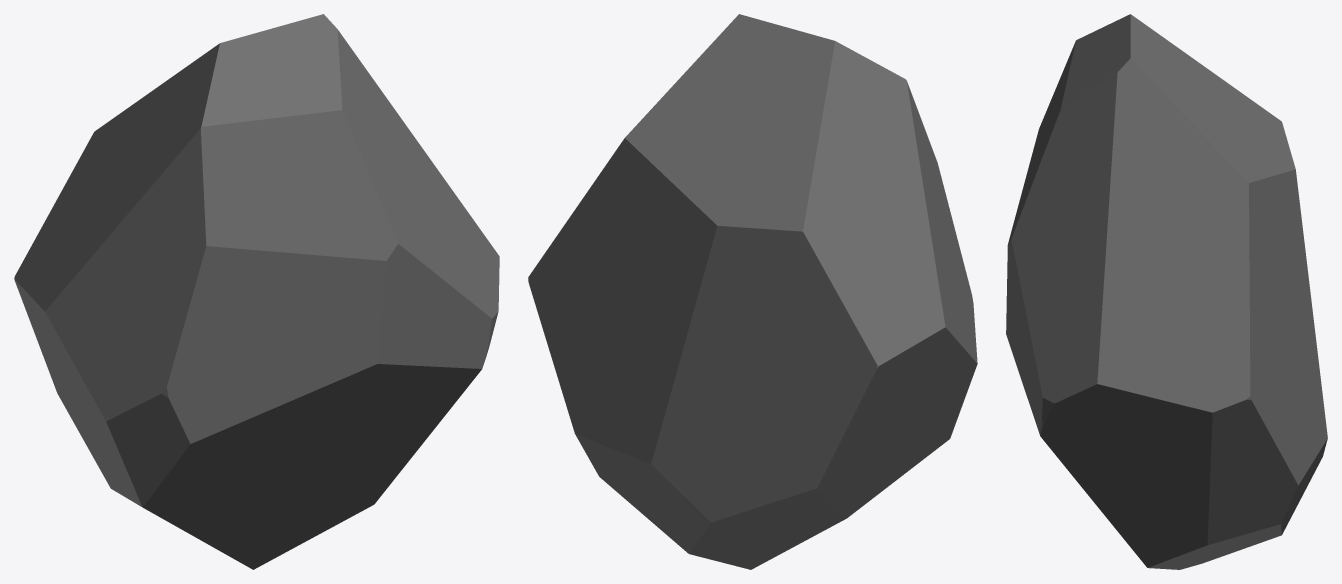
File: Rock2.fbx
3 renders of one model, left to right at view 1: azimuth 30°, elevation 25°; view 2: azimuth 150°, elevation 25°; view 3: azimuth 270°, elevation 25°, orthographic. The views are drawn at different scales.
Parts seen in each view (by area): view 1: Big Rock 2; view 2: Big Rock 2; view 3: Big Rock 2.
Boxes of the visible parts, x1,y1,x2,y2 form: Big Rock 2: (14, 14, 499, 569); Big Rock 2: (528, 14, 977, 569); Big Rock 2: (1006, 14, 1327, 569).
Size of the model in its own units: 187 by 268 by 341.
